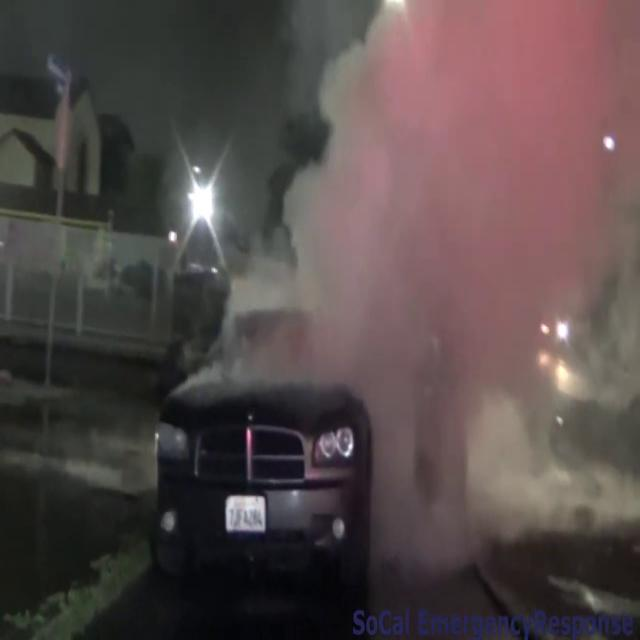Smoke: (298, 0, 640, 574)
